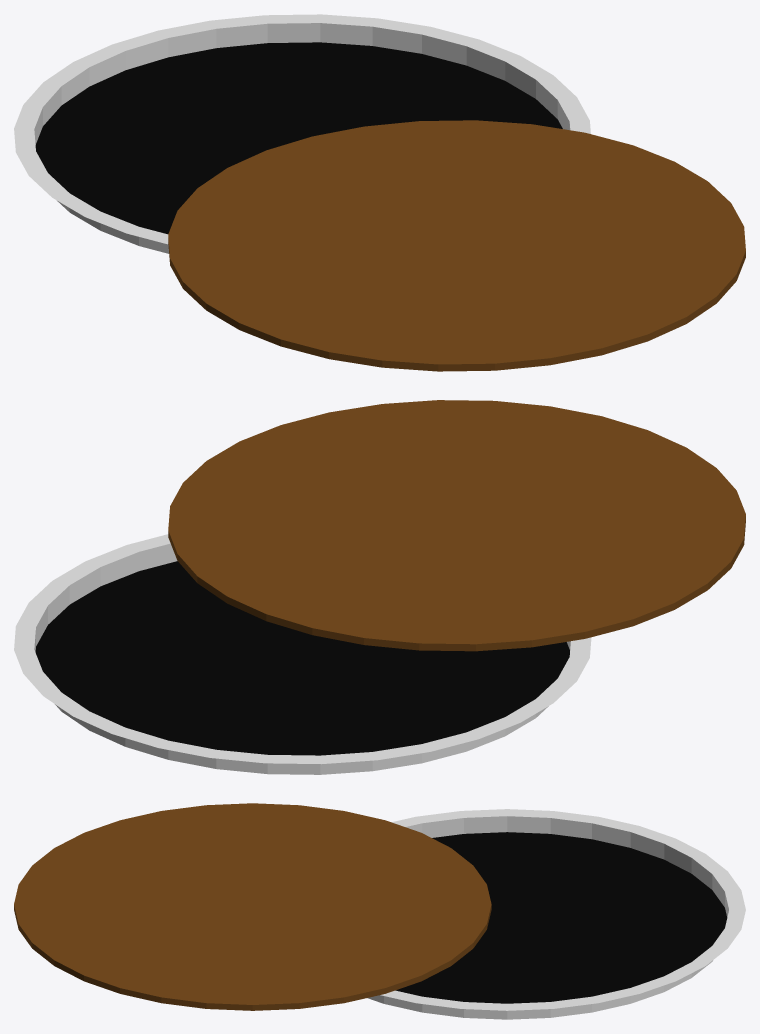
Rendered from Bueiro.fbx.
The picture shows the model from 3 angles, top to bottom: view 1: azimuth 30°, elevation 25°; view 2: azimuth 150°, elevation 25°; view 3: azimuth 270°, elevation 25°; orthographic projection. The views are drawn at different scales.
Parts seen in each view (by area): view 1: Cylinder; view 2: Cylinder; view 3: Cylinder.
Boxes of the visible parts, x1,y1,x2,y2 form: Cylinder: (14, 14, 745, 371); Cylinder: (14, 400, 745, 774); Cylinder: (14, 803, 745, 1019).
Size of the model in its own units: 200 by 10.05 by 307.
